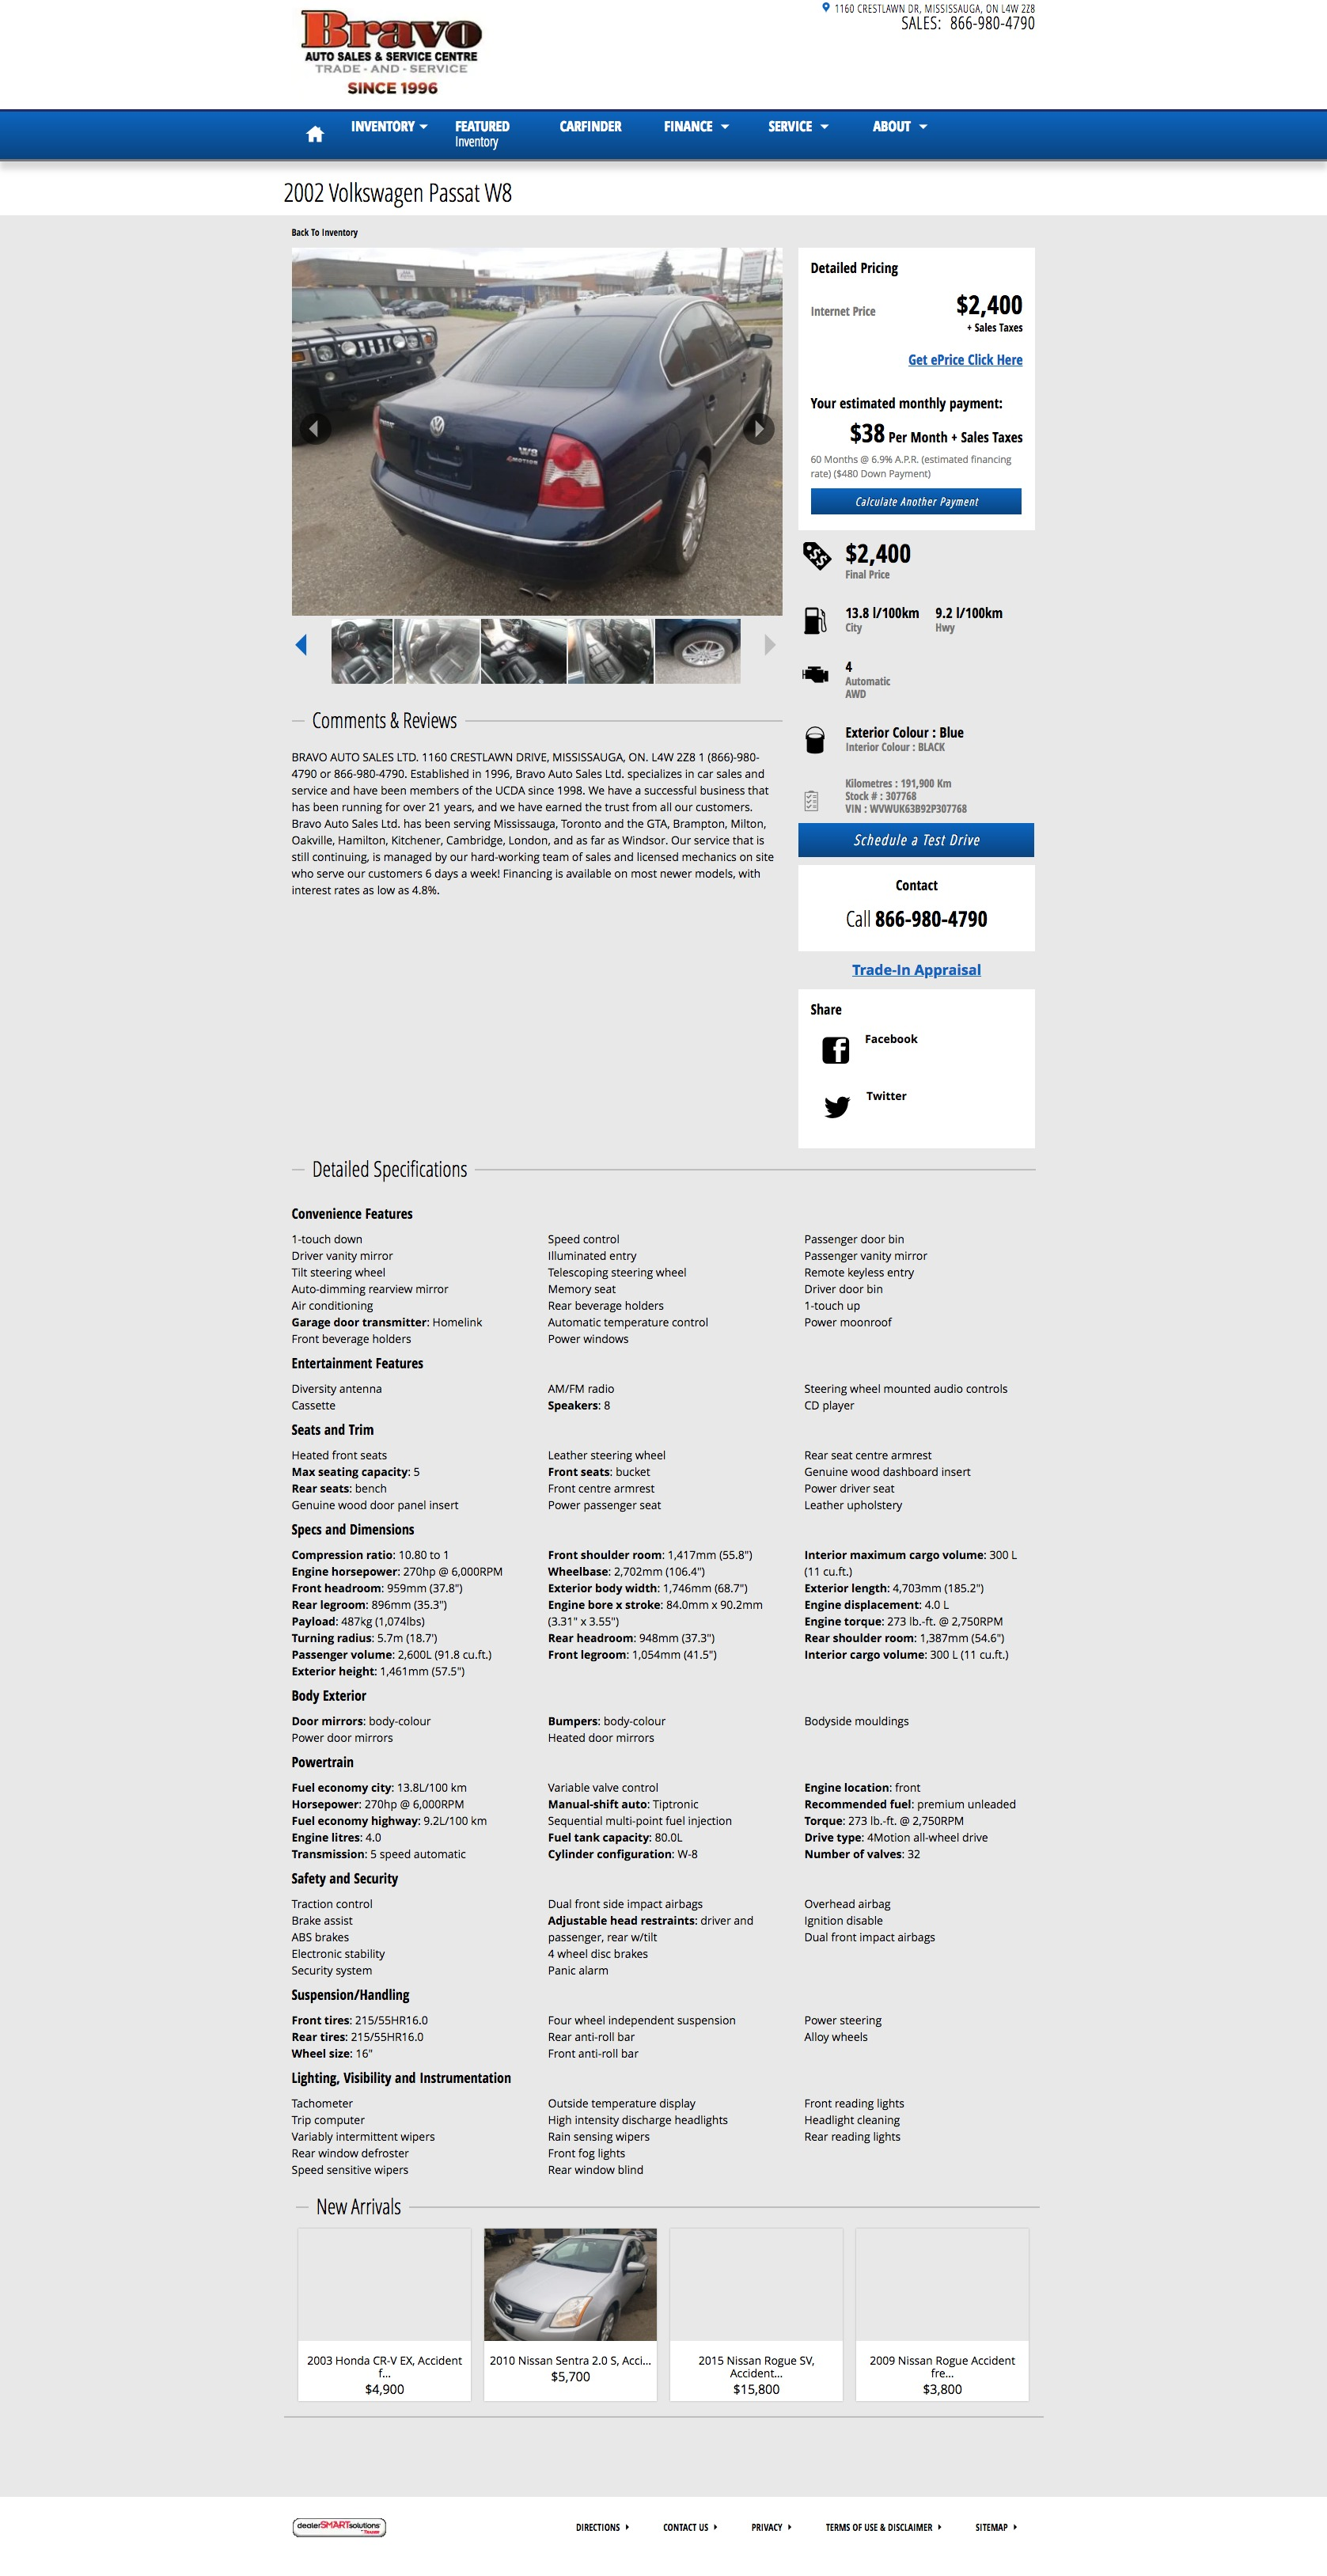car: (765, 636, 775, 657)
